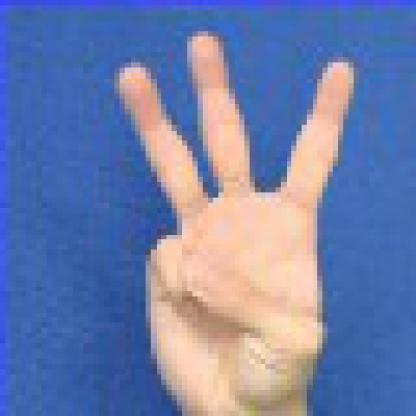three: (100, 23, 360, 416)
